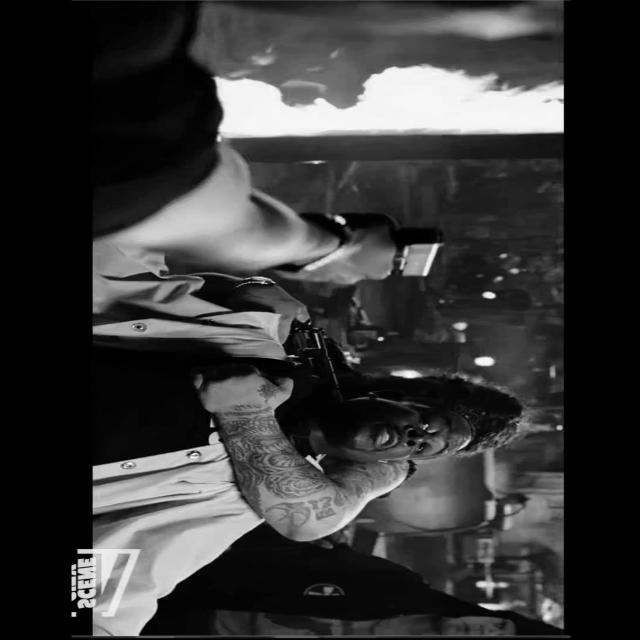weapons: (313, 217, 459, 293)
